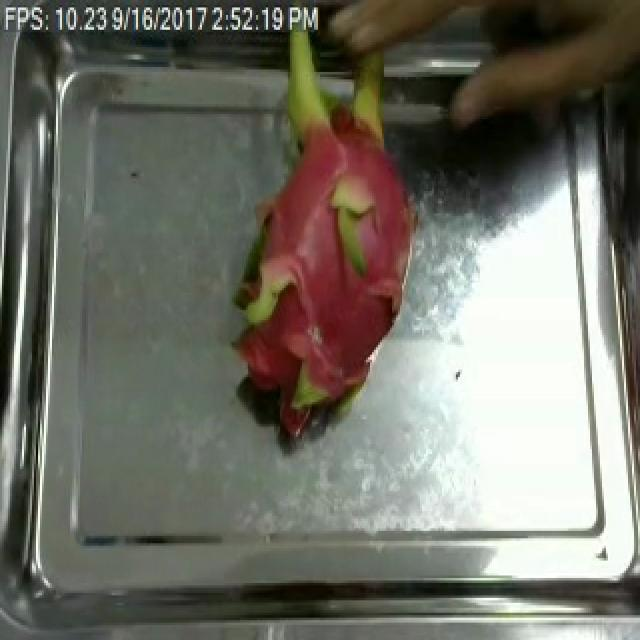fruit: (200, 10, 432, 439)
